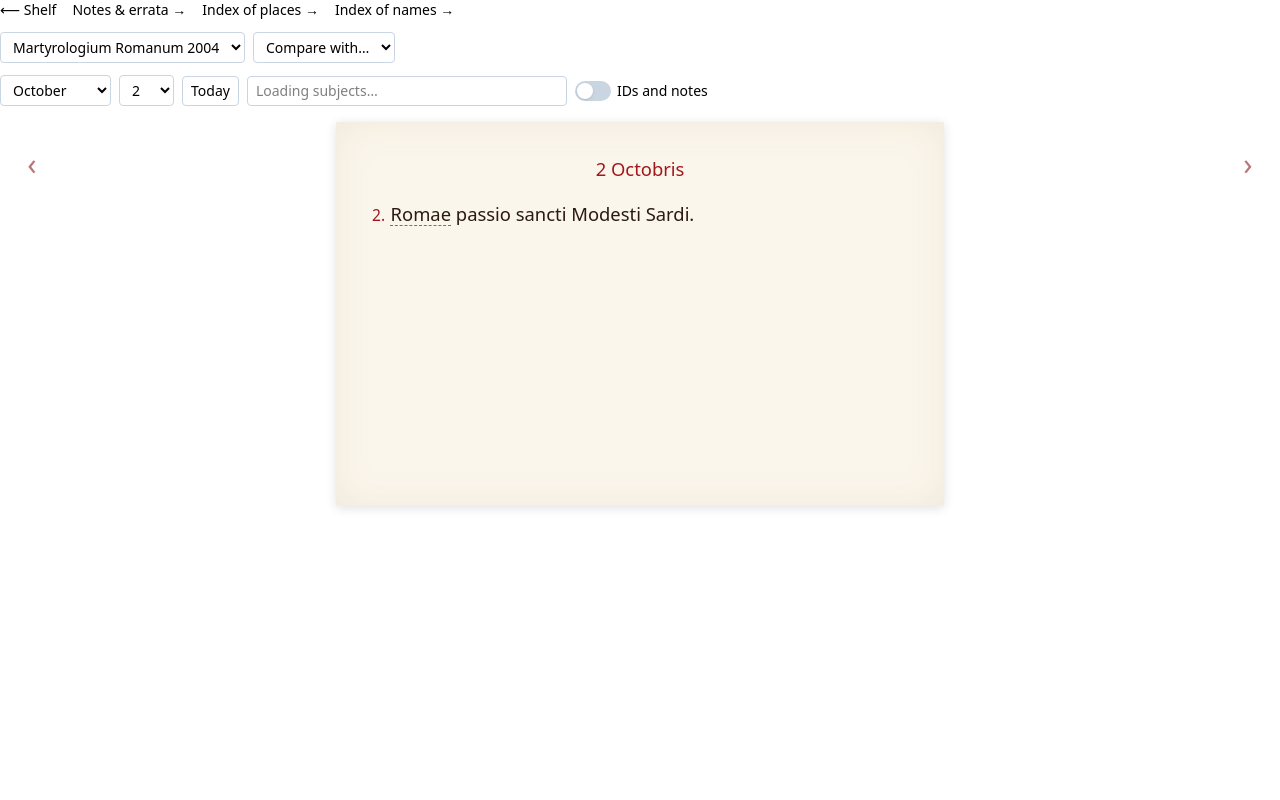
Test: the reader's markup › loads Leaflet only when a place popup opens
This screenshot has width=1280, height=800.
Click the button "Romae" at [421, 214], box [391, 201, 451, 226]
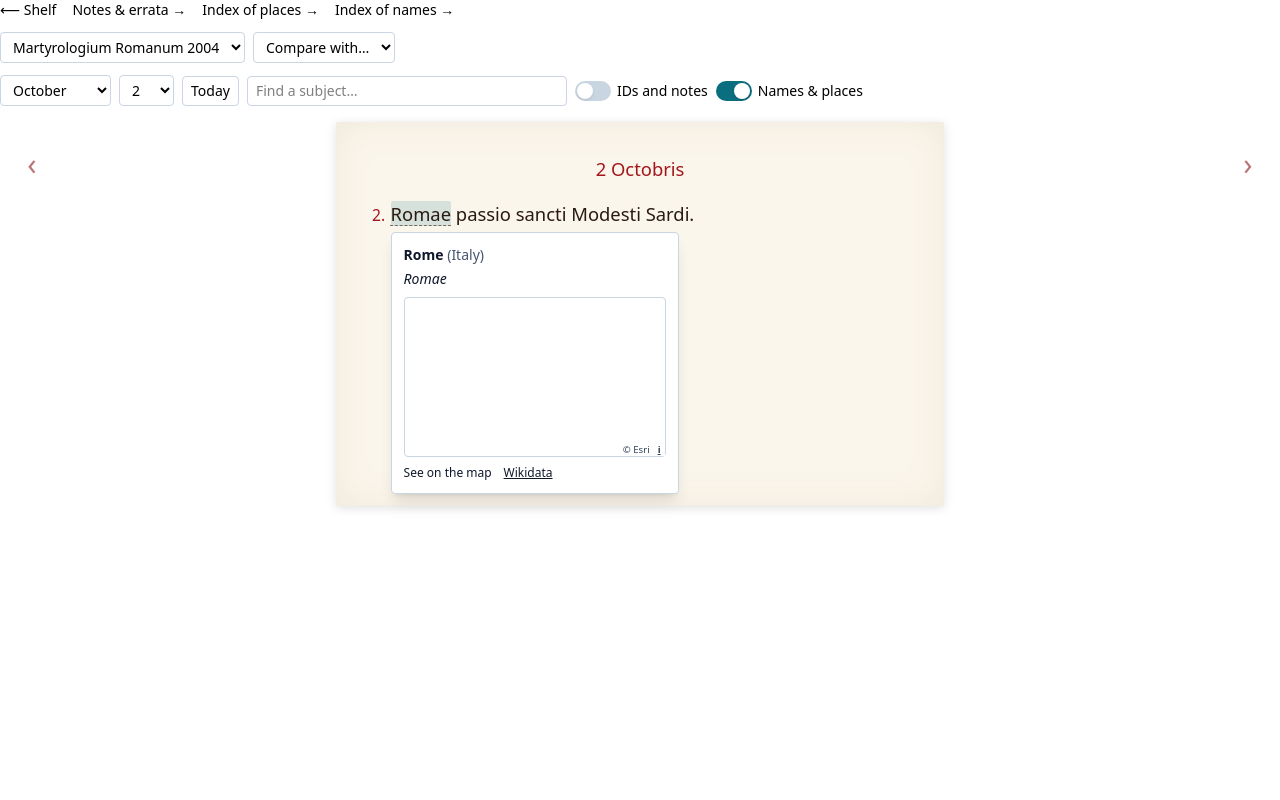
Expected: the dialog is shown, [391, 232, 679, 494]
